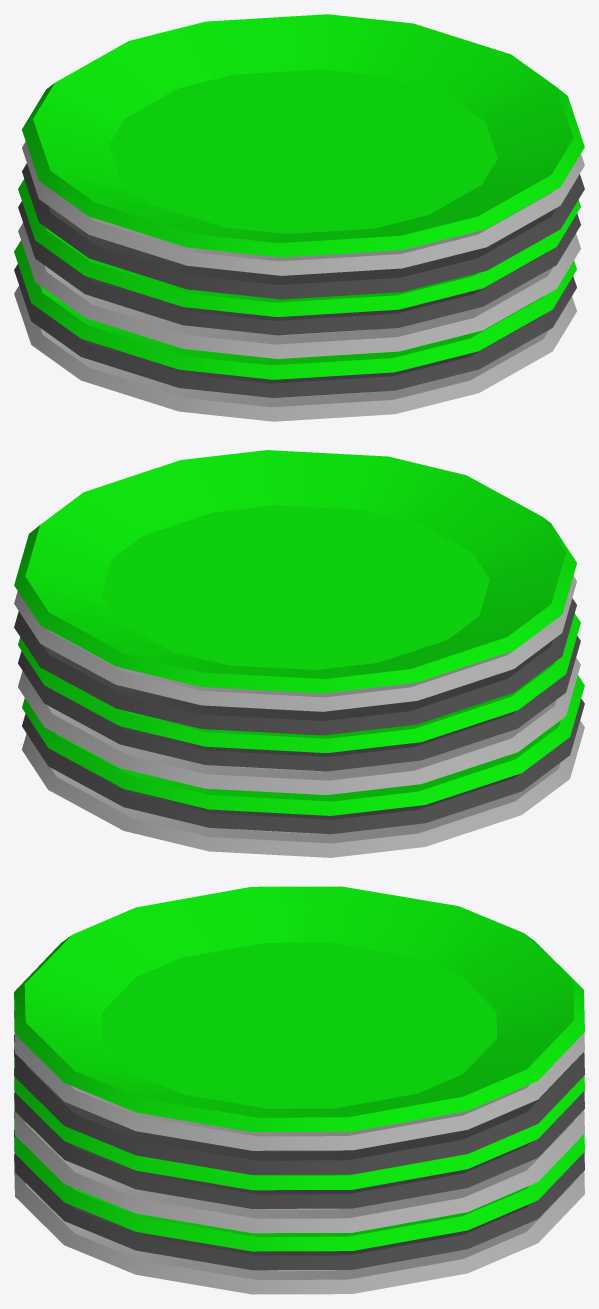
The model's file is StackOfPlates_1.fbx.
The picture shows the model from 3 angles, top to bottom: view 1: azimuth 30°, elevation 25°; view 2: azimuth 150°, elevation 25°; view 3: azimuth 270°, elevation 25°; orthographic projection. The views are drawn at different scales.
Parts seen in each view (by area): view 1: Kitchen_StackOfPlates; view 2: Kitchen_StackOfPlates; view 3: Kitchen_StackOfPlates.
Part boxes in pixels (bbox=[...]): Kitchen_StackOfPlates: bbox=[14, 14, 584, 421]; Kitchen_StackOfPlates: bbox=[14, 450, 584, 857]; Kitchen_StackOfPlates: bbox=[14, 886, 584, 1294].
Size of the model in its own units: 34.16 by 12.56 by 33.61.
